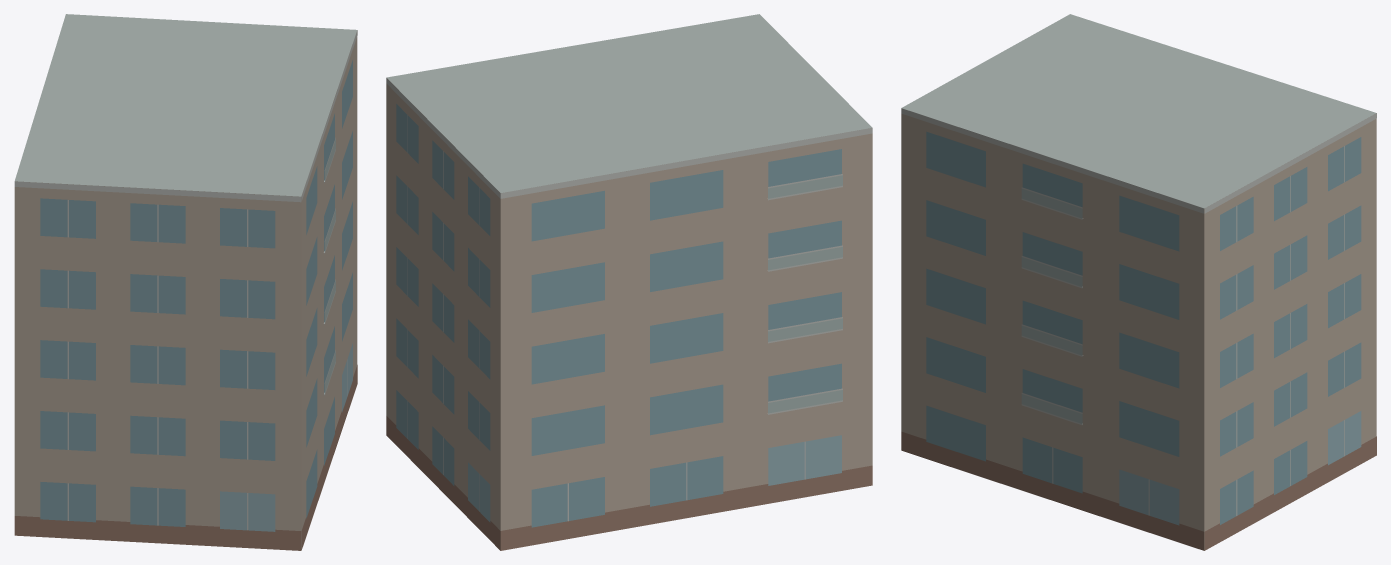
File: survey-upis-32670077.glb
3 views of the same model, side by side, from view 1: azimuth 30°, elevation 25°; view 2: azimuth 150°, elevation 25°; view 3: azimuth 270°, elevation 25° (orthographic). The views are drawn at different scales.
Parts seen in each view (by area): view 1: survey-upis-32670077.tmp; view 2: survey-upis-32670077.tmp; view 3: survey-upis-32670077.tmp.
Boxes of the visible parts, box(x1,y1,x2,y2) form: survey-upis-32670077.tmp: box(14, 14, 357, 550); survey-upis-32670077.tmp: box(386, 14, 872, 550); survey-upis-32670077.tmp: box(901, 14, 1376, 550).
Bounding box in the file's own units: 18.7 × 15.35 × 19.32.
